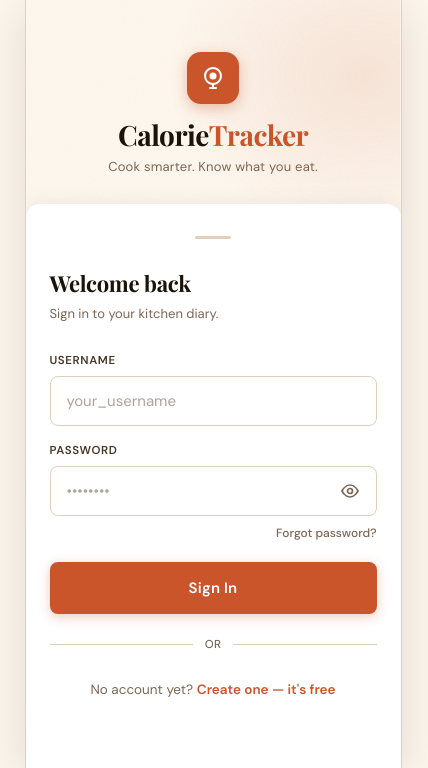
LoginPage — error handling › shows a fallback error on unexpected API errors
Type "alice" into the field labelled "Username".
click(213, 401); type("alice")  # box [50,376,376,426]
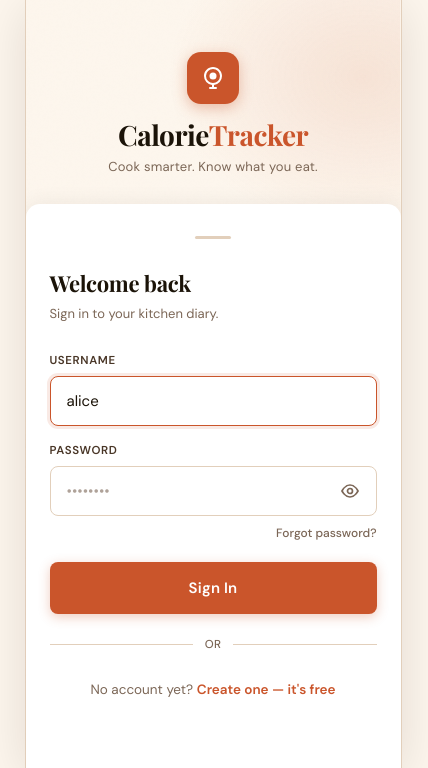
Type "pass" into the password field labelled "Password".
click(213, 491); type("pass")  # box [50,466,376,516]
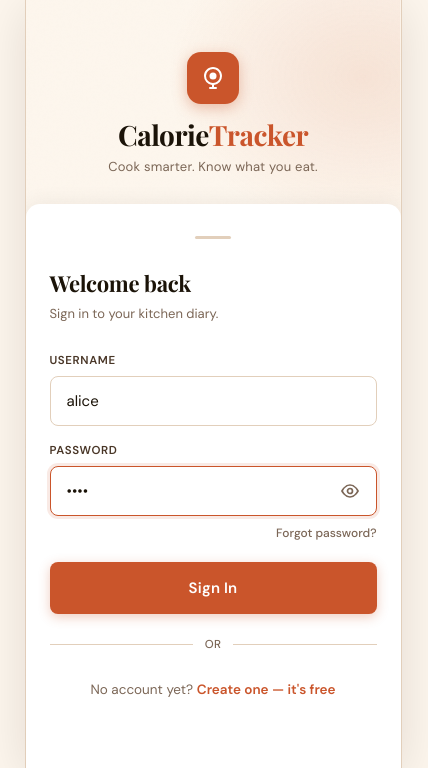
Click the button "Sign In".
click(213, 588)  # box [50,562,376,614]
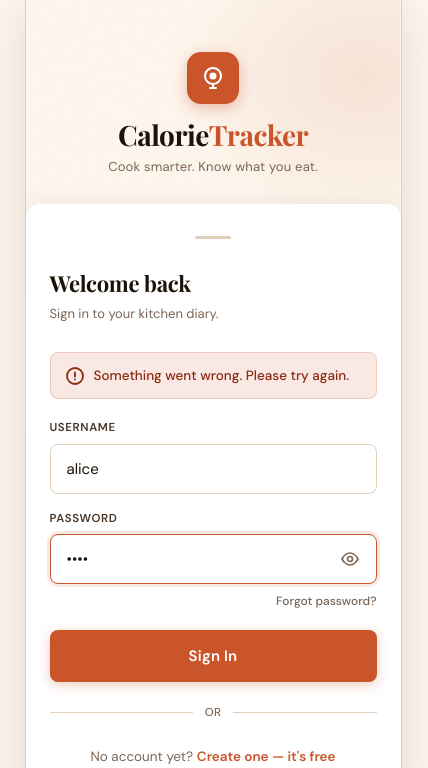
Now the text "Something went wrong. Please try again." is shown, box [94,366,349,385]
